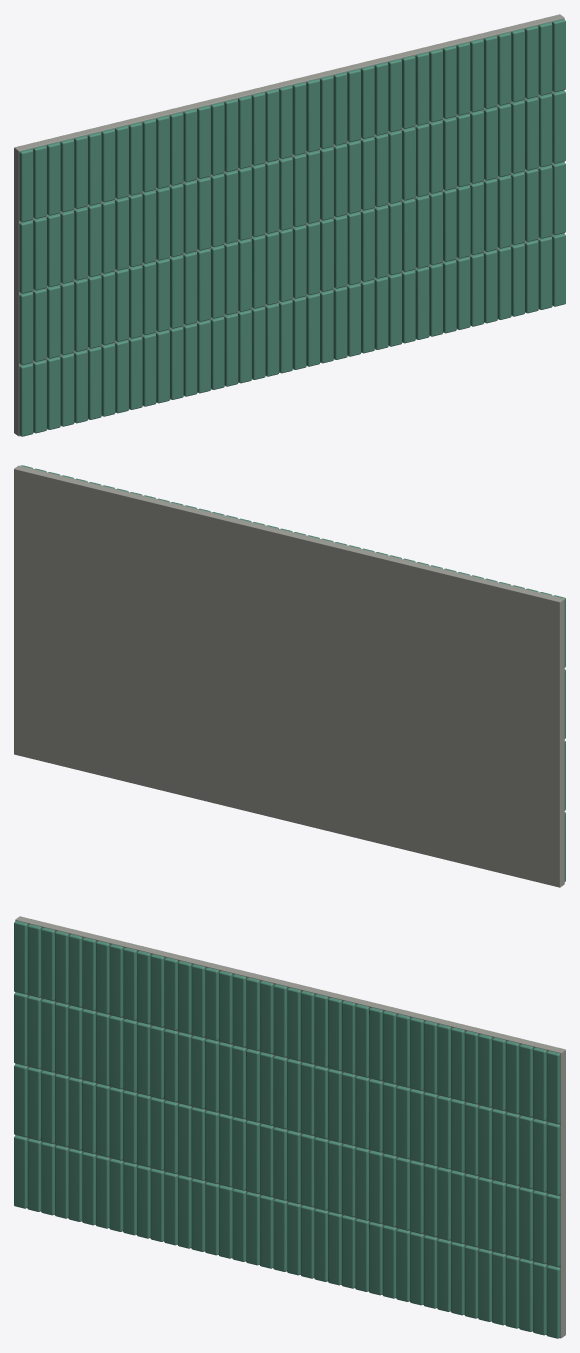
Rendered from backsplash-kitkat.glb.
The picture shows the model from 3 angles, top to bottom: view 1: azimuth 30°, elevation 25°; view 2: azimuth 150°, elevation 25°; view 3: azimuth 330°, elevation 25°; orthographic projection.
Parts seen in each view (by area): view 1: catalog_surface_RealismUV; view 2: catalog_surface_RealismUV; view 3: catalog_surface_RealismUV.
Boxes of the visible parts, left/top/right/bottom form: catalog_surface_RealismUV: left=14, top=14, right=565, bottom=436; catalog_surface_RealismUV: left=14, top=465, right=565, bottom=887; catalog_surface_RealismUV: left=14, top=916, right=565, bottom=1338.
Size of the model in its own units: 1.2 by 0.6 by 0.028.
